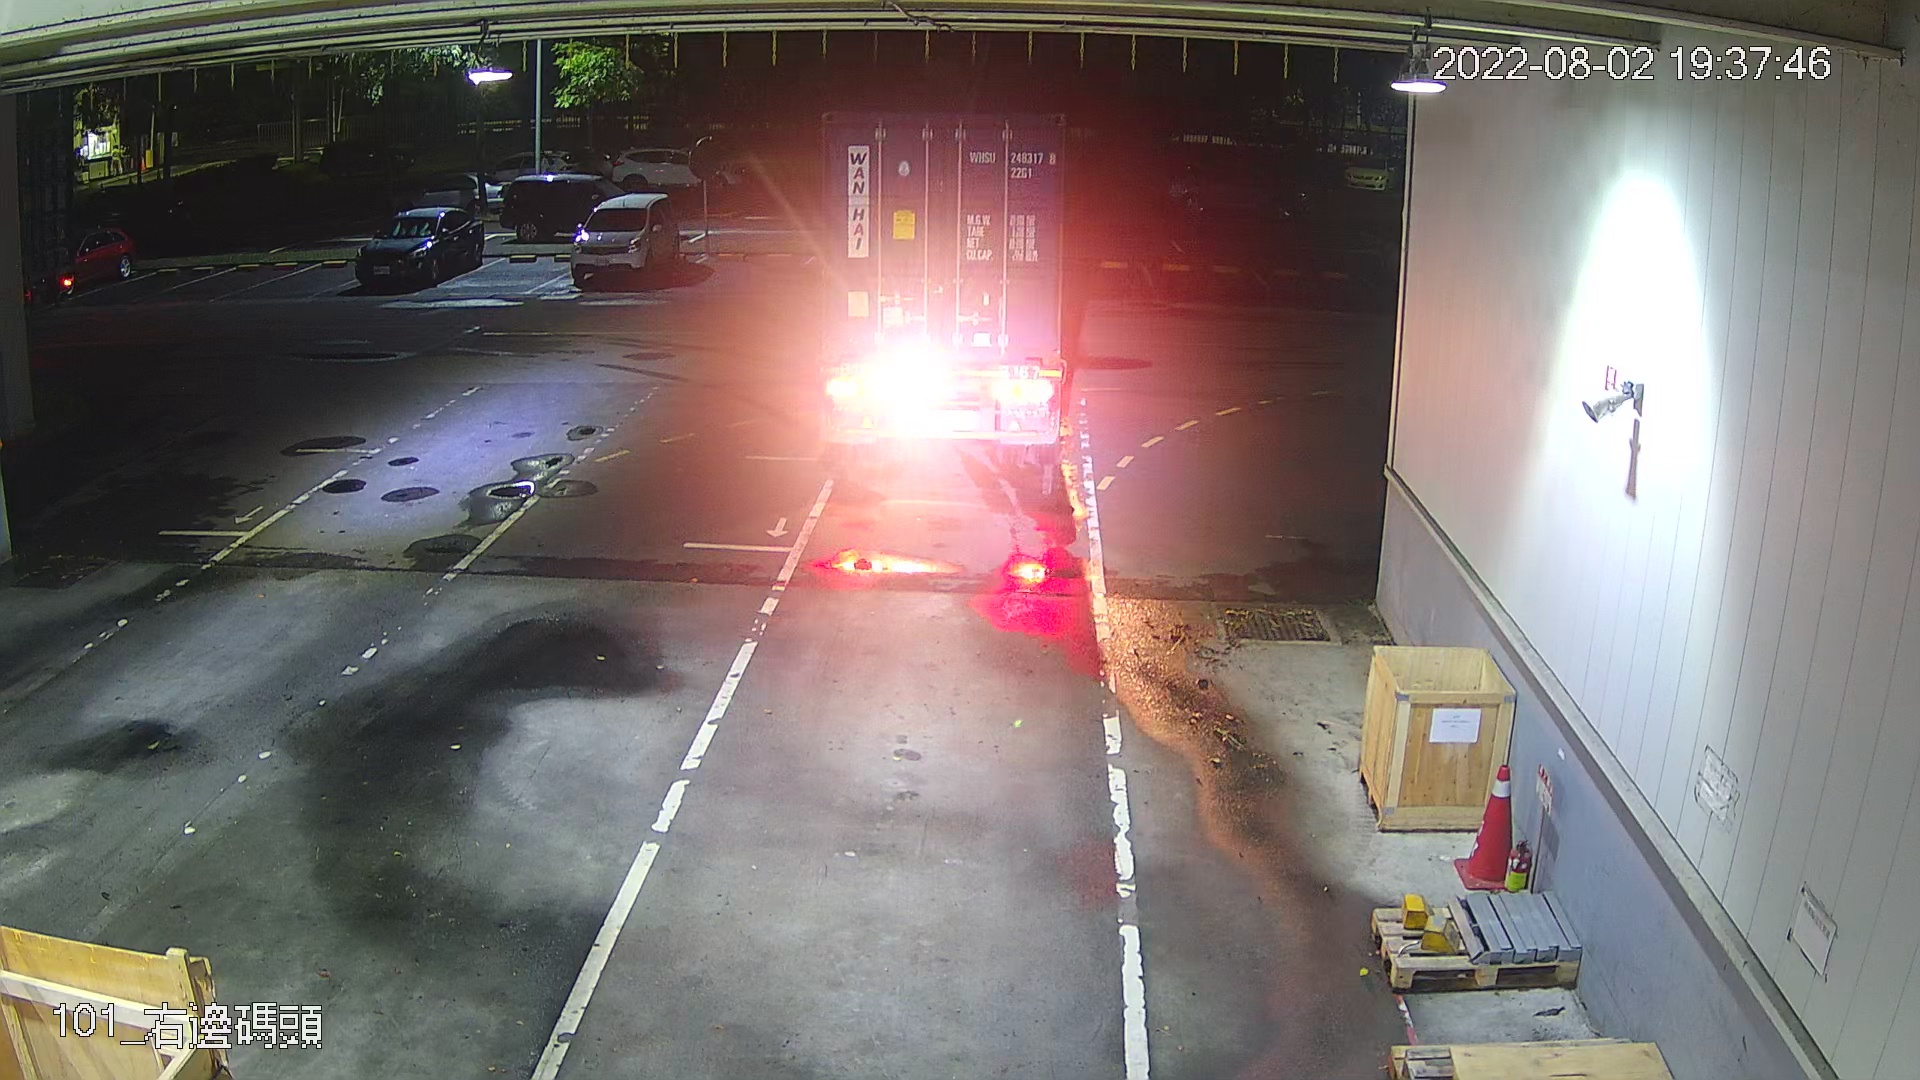container: (964, 144, 1060, 183)
